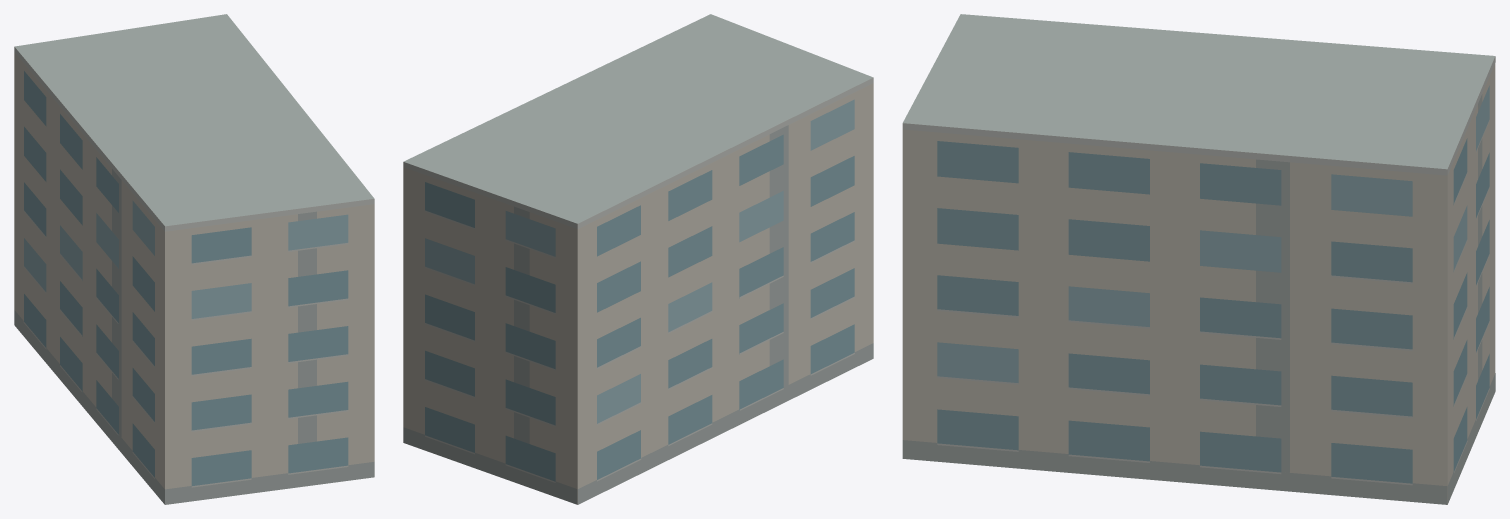
Rendered from survey-upis-33040468.glb.
3 views of the same model, side by side, from view 1: azimuth 30°, elevation 25°; view 2: azimuth 150°, elevation 25°; view 3: azimuth 270°, elevation 25° (orthographic). The views are drawn at different scales.
Visible parts, largest first — view 1: survey-upis-33040468.tmp; view 2: survey-upis-33040468.tmp; view 3: survey-upis-33040468.tmp.
Boxes of the visible parts, <box> form: survey-upis-33040468.tmp: <box>14,14,374,504</box>; survey-upis-33040468.tmp: <box>403,14,873,504</box>; survey-upis-33040468.tmp: <box>902,14,1495,504</box>.
Size of the model in its own units: 12.69 by 12.78 by 20.47.
